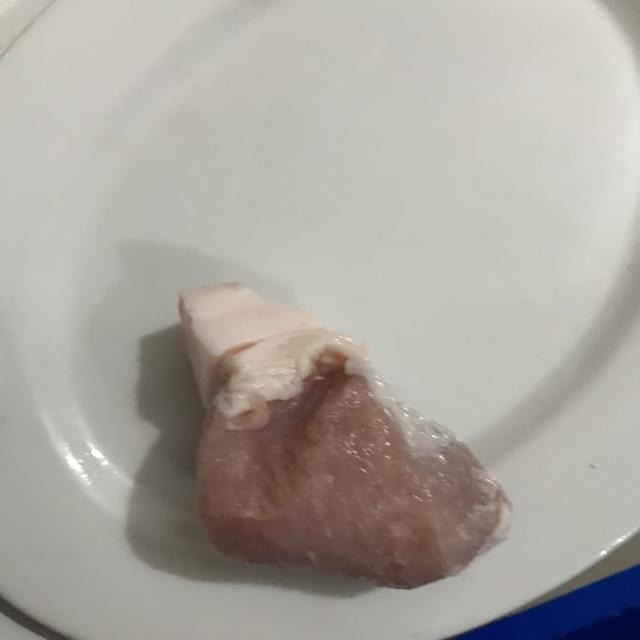chicken: (169, 282, 508, 589)
